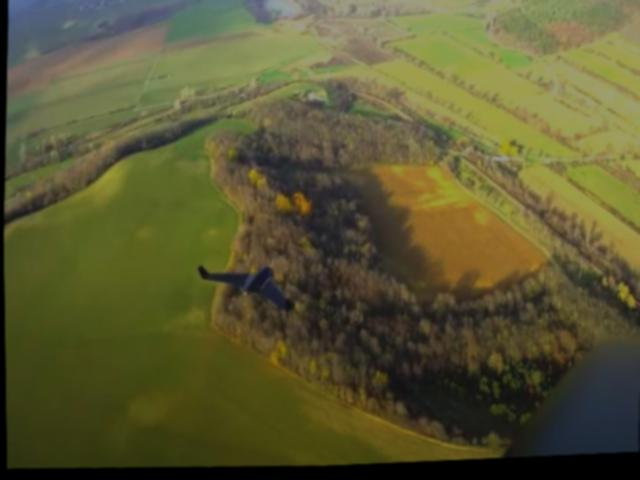iha: (192, 253, 295, 315)
